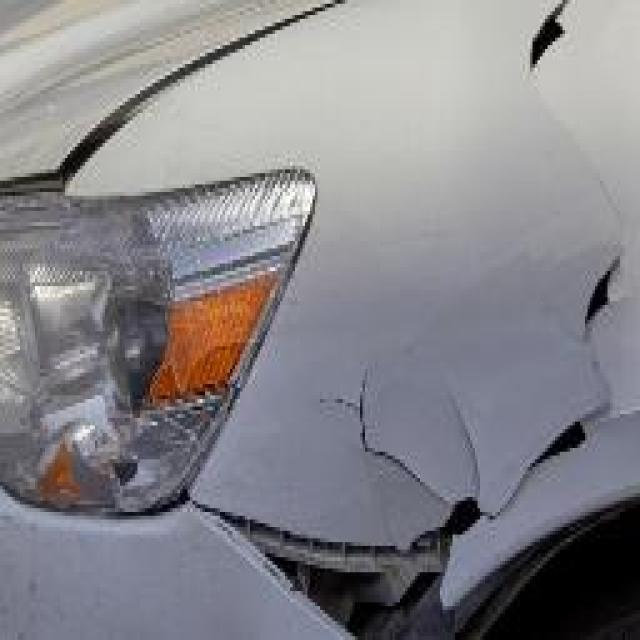Fender: (67, 1, 640, 640)
